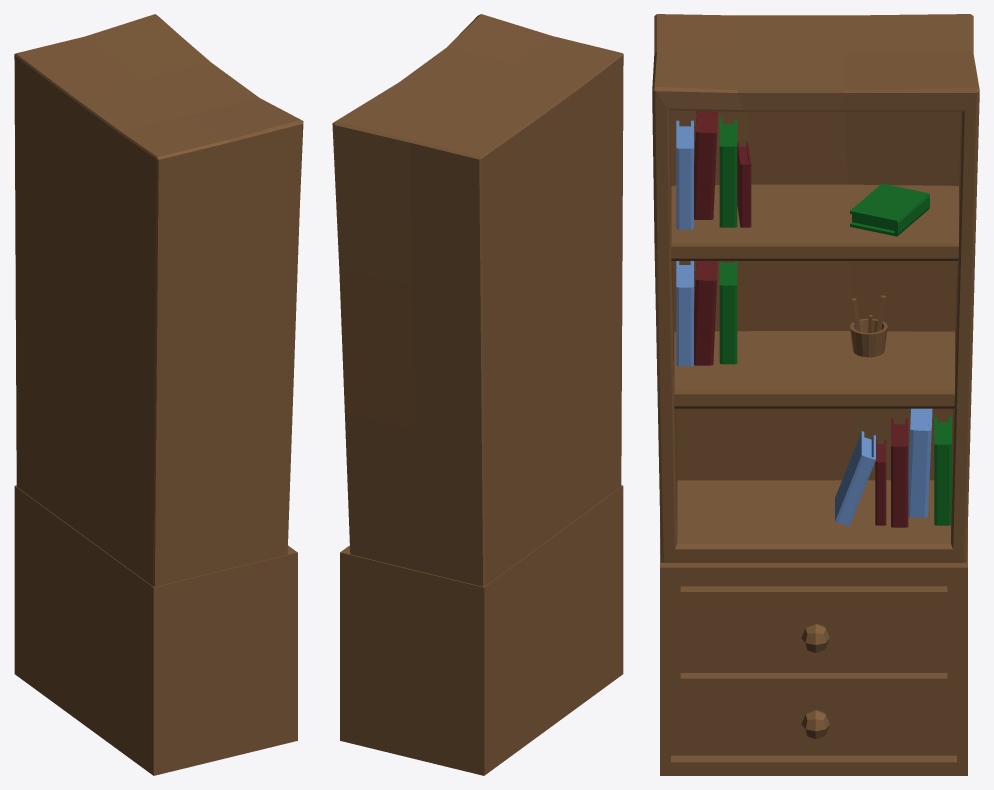
File: BookCase01.fbx
3 renders of one model, left to right at view 1: azimuth 30°, elevation 25°; view 2: azimuth 150°, elevation 25°; view 3: azimuth 270°, elevation 25°, orthographic. The views are drawn at different scales.
Visible parts, largest first — view 1: BookCase01; view 2: BookCase01; view 3: BookCase01.
Part boxes in pixels (x1,y1,x2,y2): BookCase01: (14,14,303,775); BookCase01: (332,14,623,775); BookCase01: (652,14,979,775).
Size of the model in its own units: 83.67 by 304 by 131.
